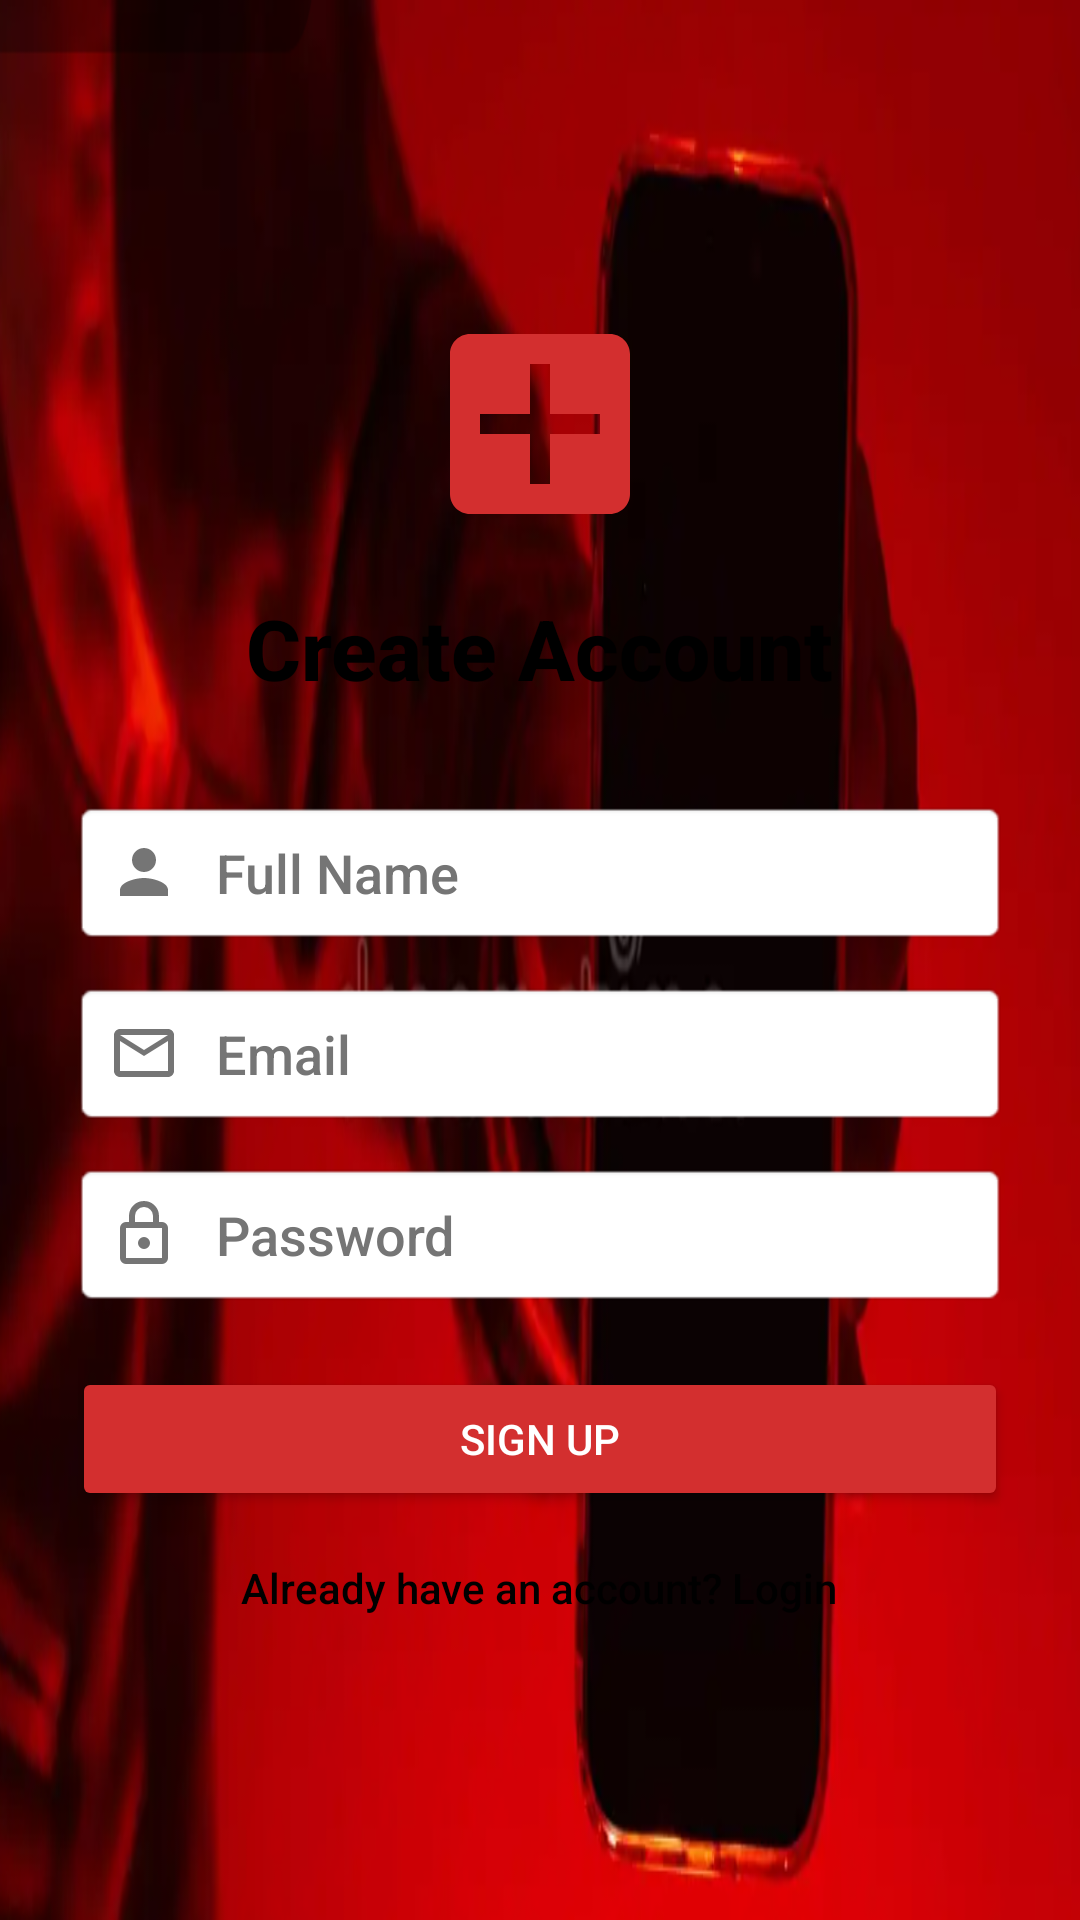

Where icons sit on this 1080px x 1920px app screen, as (x1, y1, x2, y2):
emergency: (420, 304, 630, 544)
